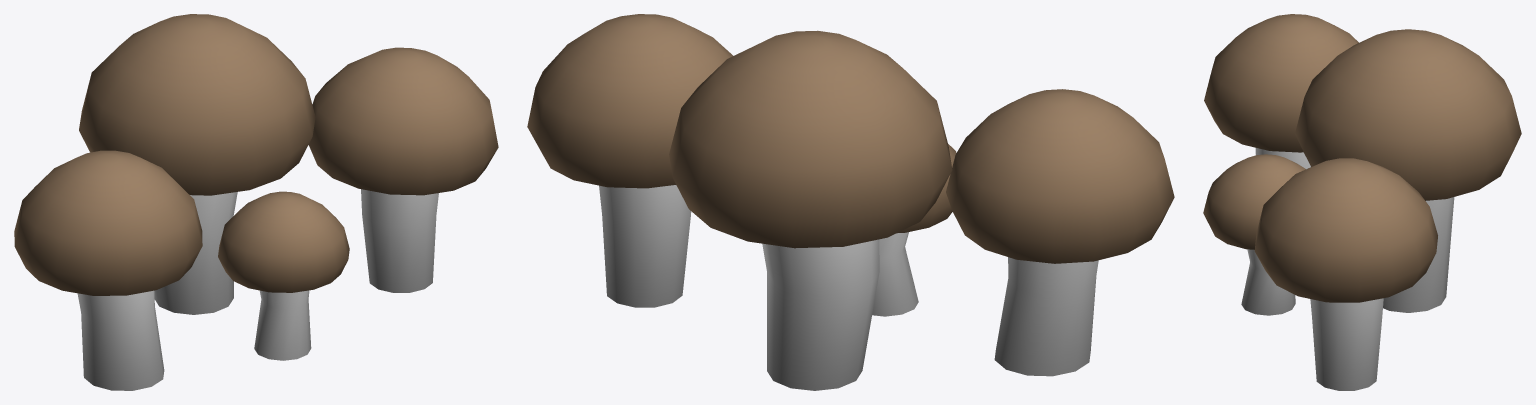
File: Mushroom_05.fbx
The picture shows the model from 3 angles, left to right: view 1: azimuth 30°, elevation 25°; view 2: azimuth 150°, elevation 25°; view 3: azimuth 270°, elevation 25°; orthographic projection. The views are drawn at different scales.
Parts seen in each view (by area): view 1: Mushroom_05_LOD0; view 2: Mushroom_05_LOD0; view 3: Mushroom_05_LOD0.
Part boxes in pixels (x1,y1,x2,y2): Mushroom_05_LOD0: (14,14,498,390); Mushroom_05_LOD0: (527,14,1174,390); Mushroom_05_LOD0: (1203,14,1521,390).
Size of what is drawn, in the model's own units: 0.1704 by 0.0924 by 0.1017.
